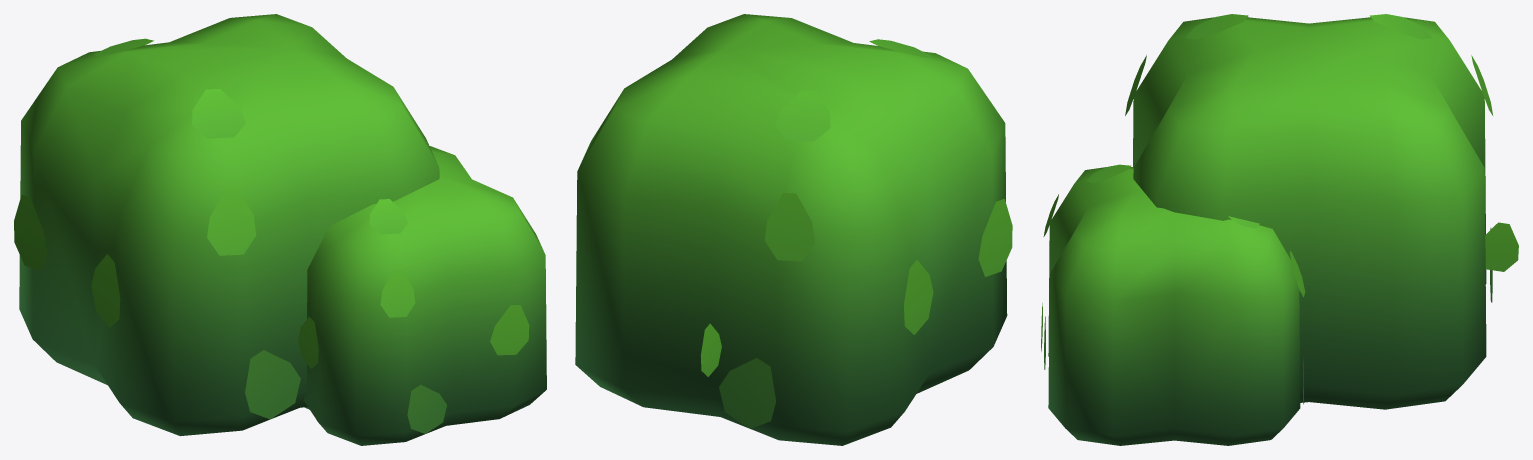
The model's file is Bush.fbx.
3 renders of one model, left to right at view 1: azimuth 30°, elevation 25°; view 2: azimuth 150°, elevation 25°; view 3: azimuth 270°, elevation 25°, orthographic. The views are drawn at different scales.
Visible parts, largest first — view 1: Bush; view 2: Bush; view 3: Bush.
Boxes of the visible parts, x1,y1,x2,y2 form: Bush: [14, 14, 546, 445]; Bush: [575, 14, 1012, 445]; Bush: [1041, 14, 1518, 445].
Bounding box in the file's own units: 63.28 × 50.45 × 70.73.
